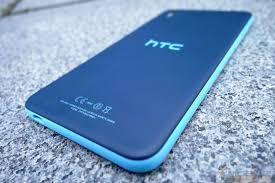htc: (20, 1, 256, 171)
